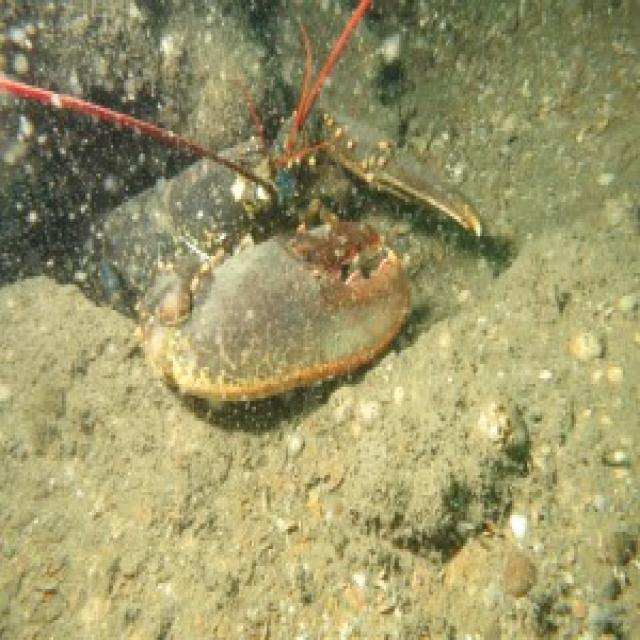lobsters: (73, 40, 545, 486)
